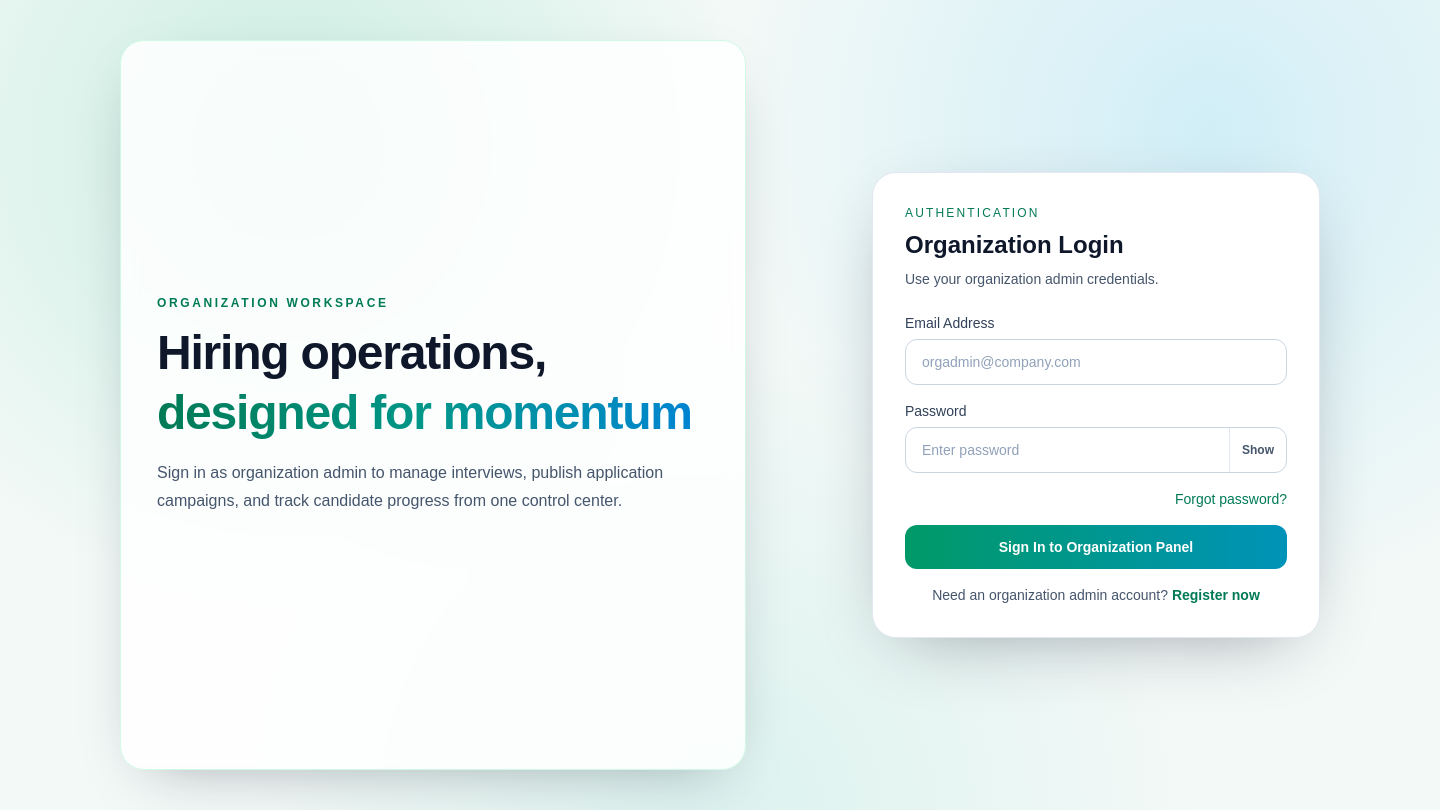
Test: OrganizationAuthPage › shows auth failure message from backend
The image size is (1440, 810).
Type "org@test.com" into the field labelled "Email Address" at point(1096, 362), box [905,339,1287,385]
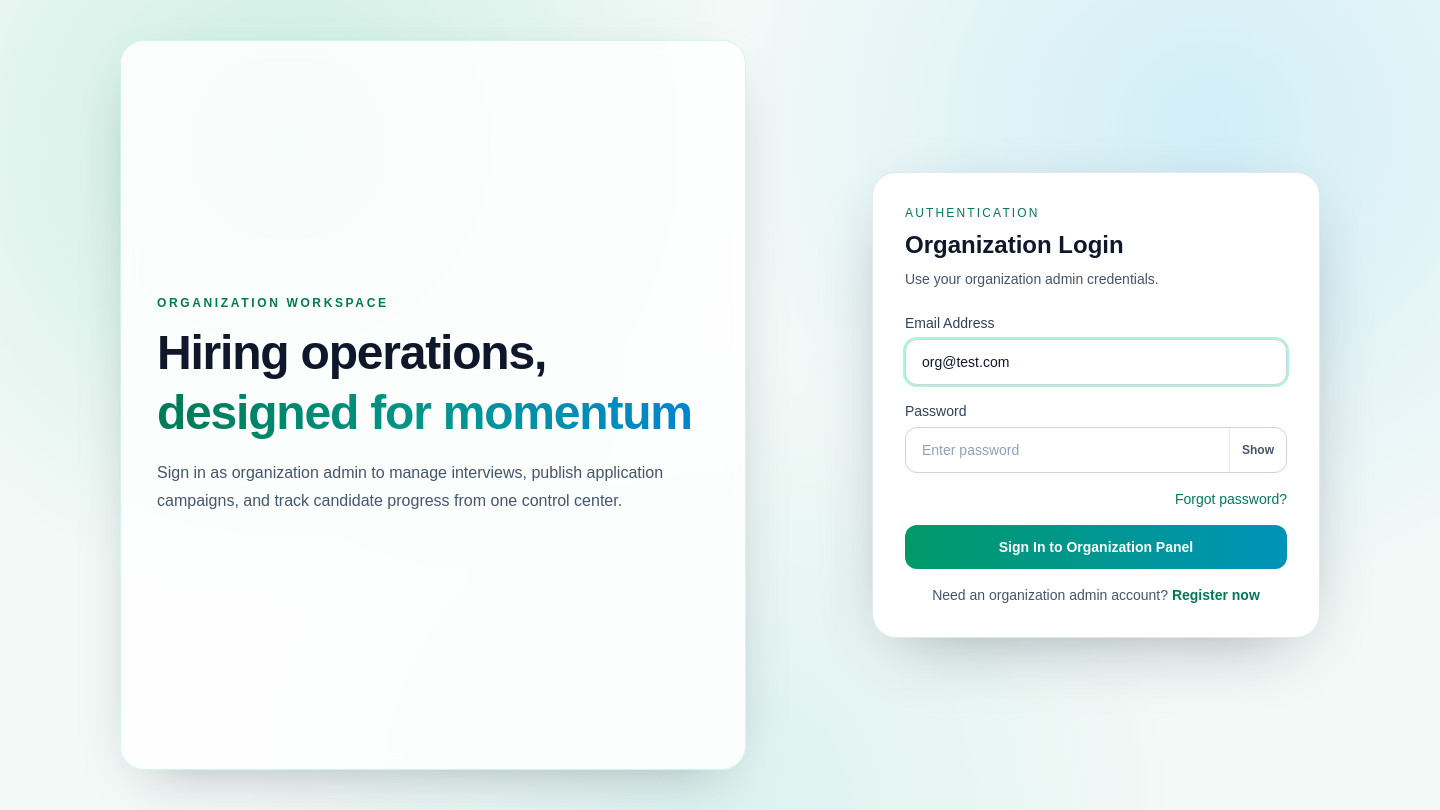
Type "wrong" into the password field labelled "Password" at point(1068, 450), box [906,428,1229,472]
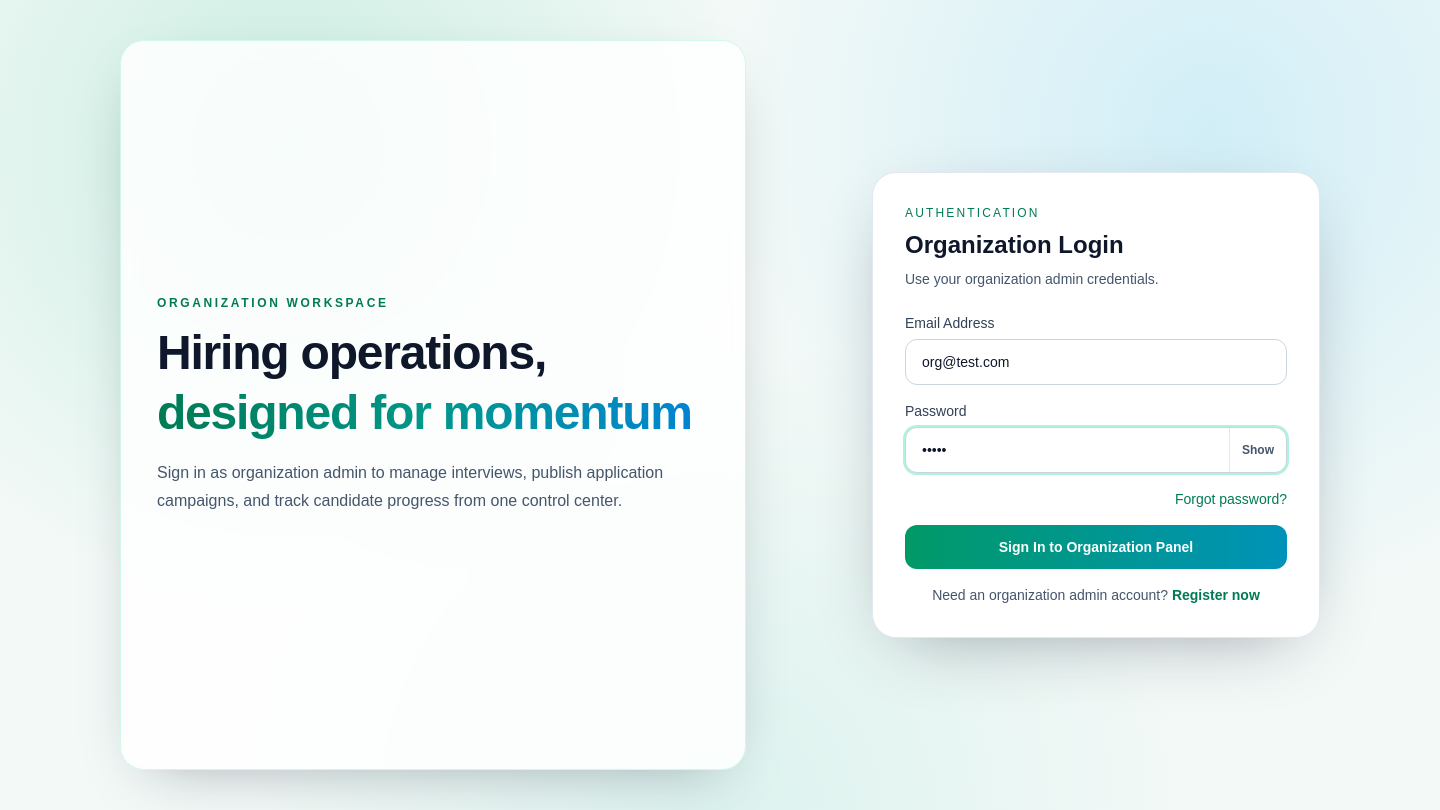
Click the button "Sign In to Organization Panel" at point(1096, 547), box [905,525,1287,569]
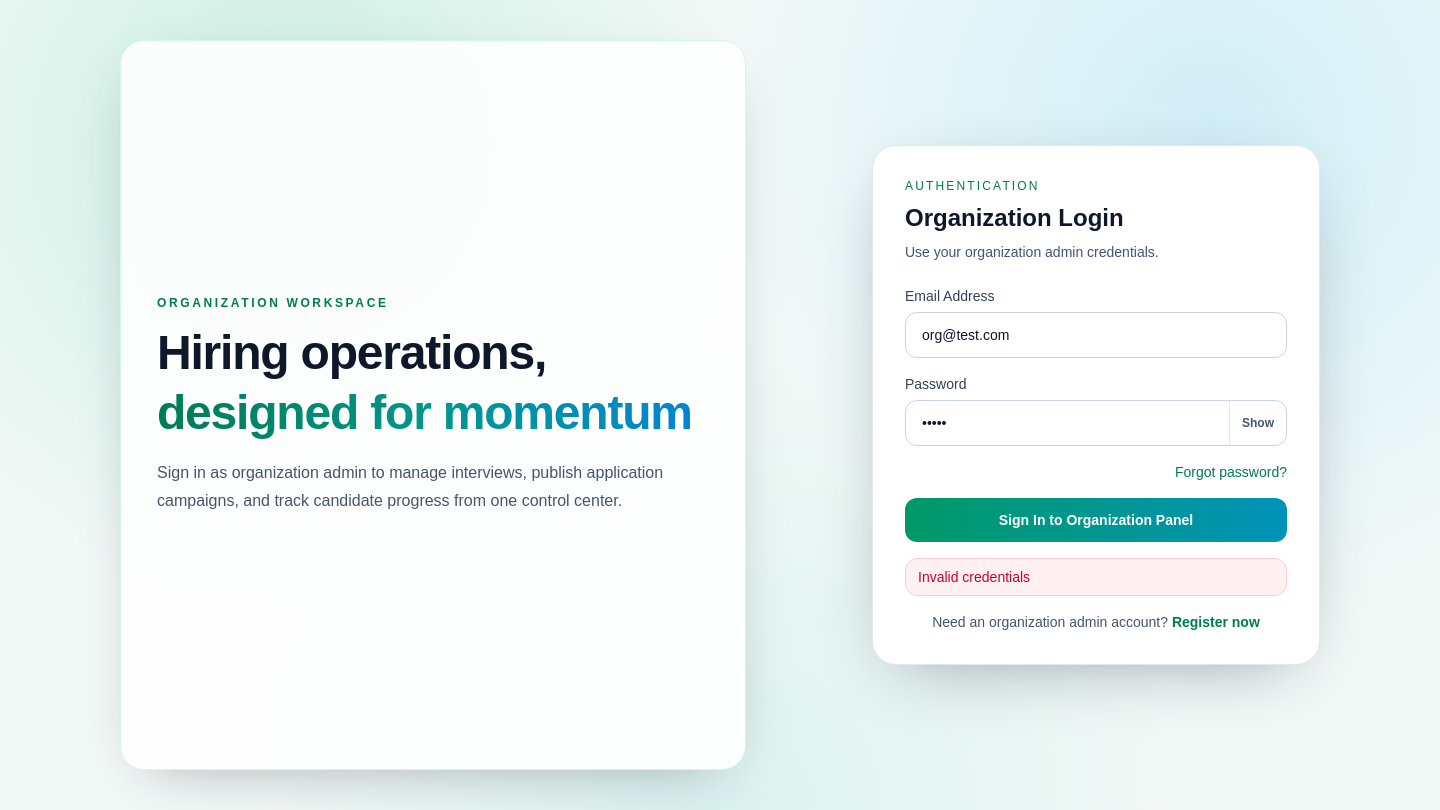
Expected: the text "Invalid credentials" is shown, [905,558,1287,596]
